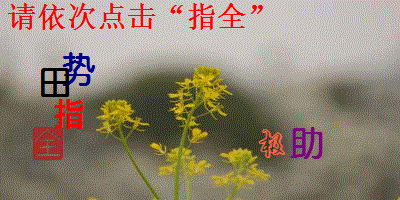text: (61, 50, 97, 88), (289, 126, 325, 161), (32, 125, 66, 162), (38, 66, 71, 99), (53, 98, 85, 130), (257, 127, 285, 160)
